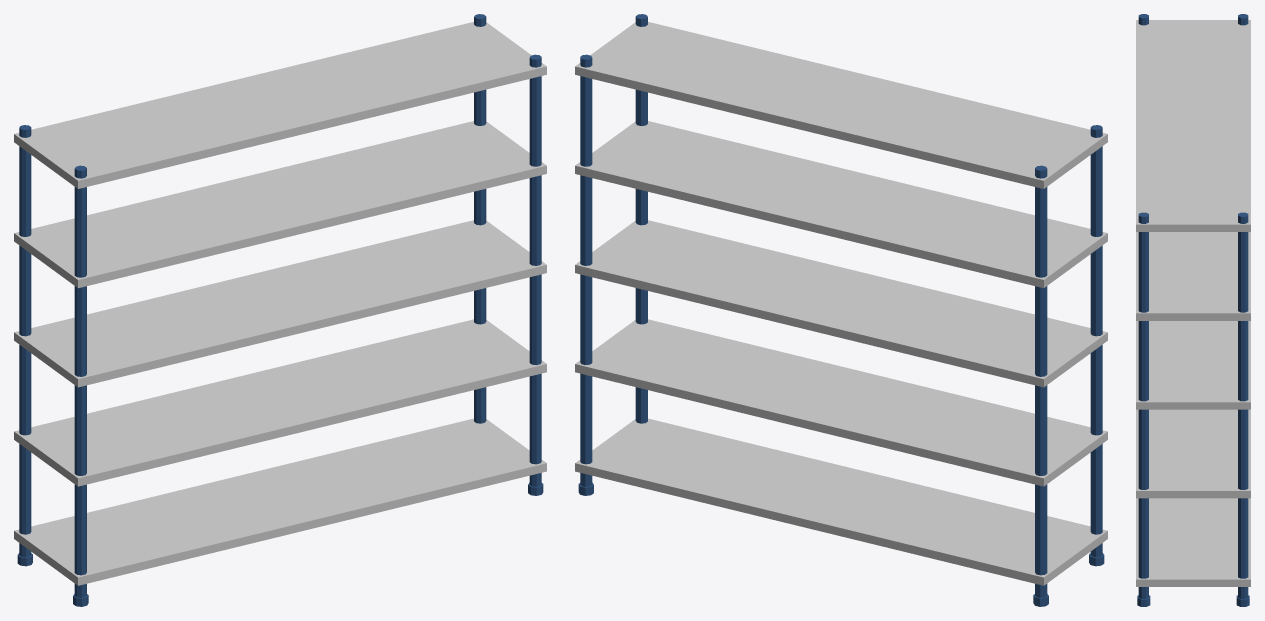
Rendered from Rack_01.fbx.
The picture shows the model from 3 angles, left to right: view 1: azimuth 30°, elevation 25°; view 2: azimuth 150°, elevation 25°; view 3: azimuth 270°, elevation 25°; orthographic projection. The views are drawn at different scales.
Visible parts, largest first — view 1: Rack_01; view 2: Rack_01; view 3: Rack_01.
Boxes of the visible parts, box(x1,y1,x2,y2) form: Rack_01: box(14, 14, 546, 606); Rack_01: box(575, 14, 1107, 606); Rack_01: box(1136, 14, 1250, 606).
Bounding box in the file's own units: 244 × 216 × 57.67.
